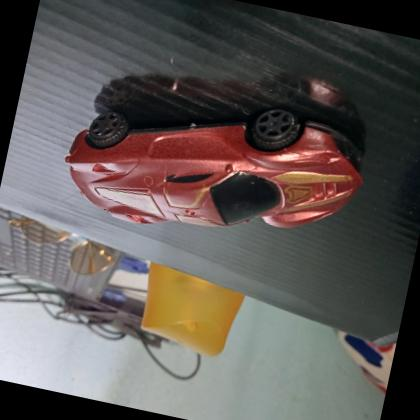Car: (49, 61, 380, 272)
